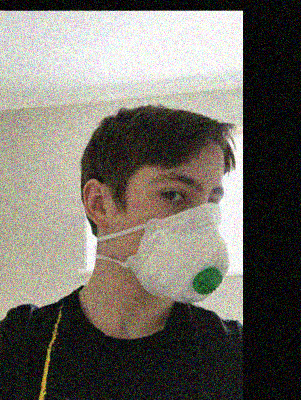with_mask: (118, 163, 231, 303)
